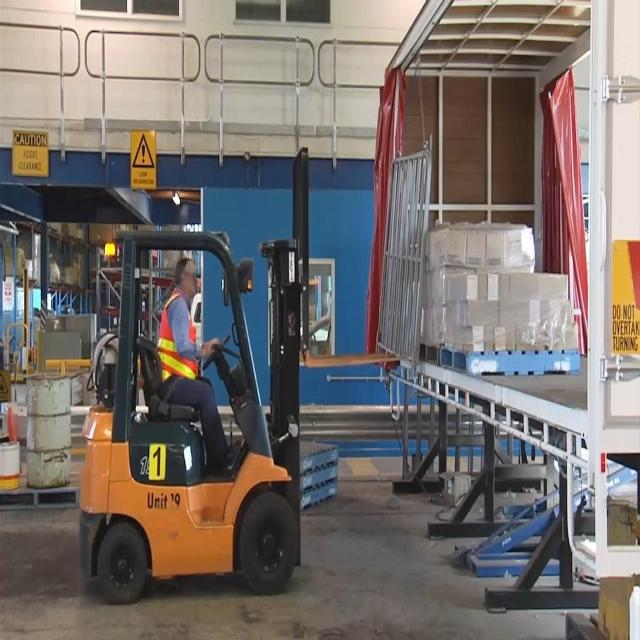box: (420, 218, 582, 358)
forklift: (54, 148, 404, 608)
pallets: (417, 335, 587, 388), (299, 438, 341, 514)
person: (150, 236, 244, 482)
